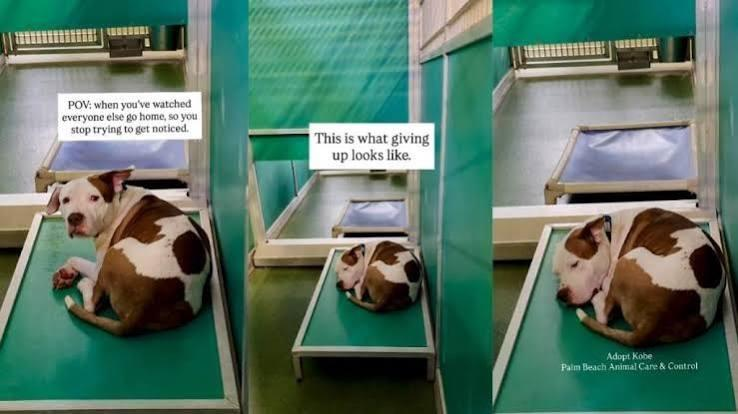adult_dog: (46, 166, 214, 336), (550, 208, 729, 348), (333, 240, 424, 313)
